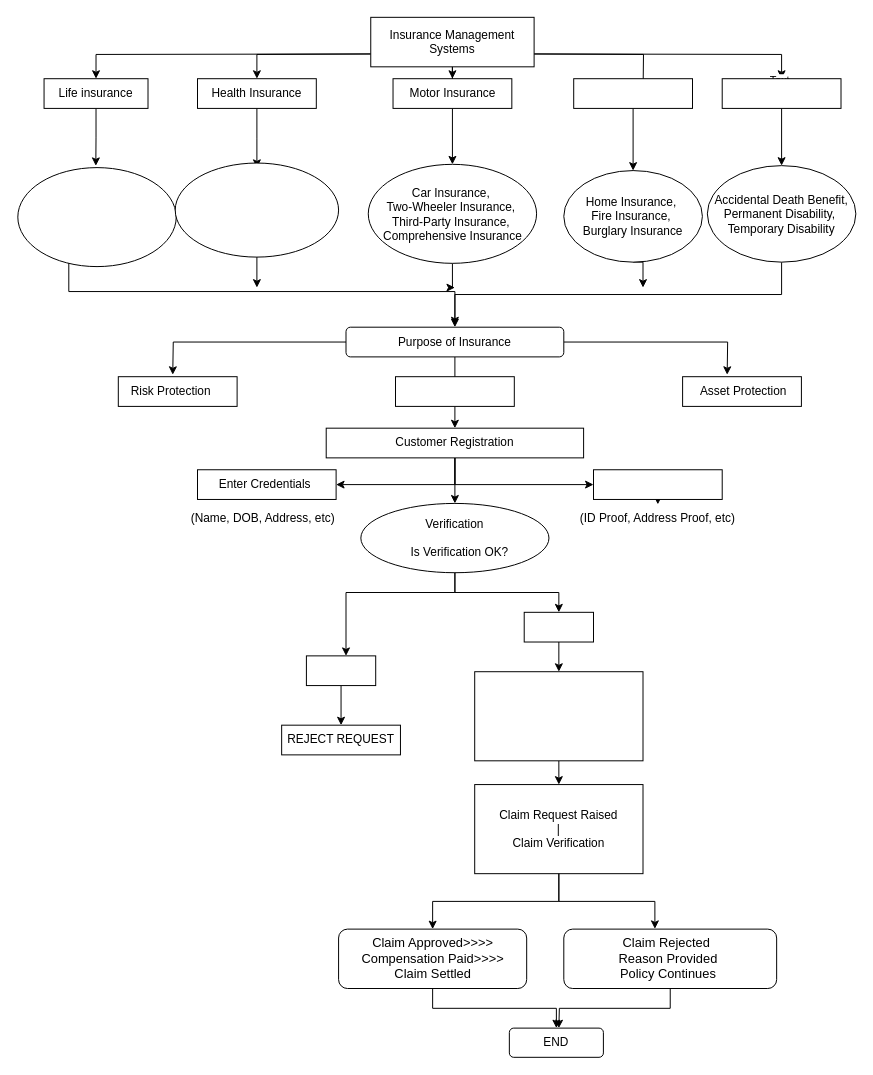
Some shapes in this 873 by 1075 pixel diagram are drawn without their labels. Here are the shapes that lost their labels. From the top down, the box of each, then its label:
(573, 78, 693, 108): Property Insurance
(721, 78, 841, 108): Accident Insurance
(17, 167, 176, 267): Term Life, Whole Life, Endowment Plan, ULIP
(174, 162, 339, 257): Individual Health, Family Floater, Critical Illness, Senior Citizen Plan
(395, 376, 514, 406): Financial Security
(593, 469, 722, 499): Upload Documents
(523, 611, 594, 642): Yes
(305, 655, 376, 686): No
(474, 671, 643, 761): Policy Creation | Premium Payment | Policy Activated
